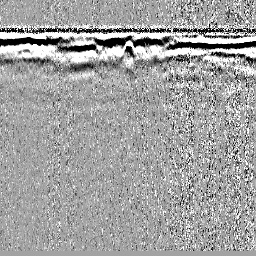cavity: (120, 39, 137, 56)
